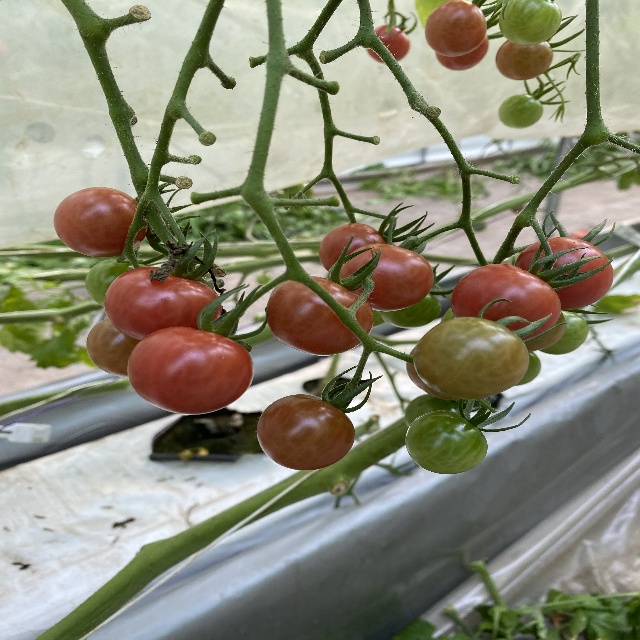l_fully_ripened: (128, 325, 256, 415), (451, 262, 564, 342), (104, 267, 223, 341), (514, 236, 615, 311), (54, 187, 150, 258), (332, 244, 434, 310), (318, 223, 393, 275), (434, 35, 487, 72), (366, 25, 410, 63)
l_green: (404, 412, 489, 475), (87, 258, 150, 308), (499, 0, 562, 47), (539, 309, 591, 355), (379, 291, 443, 328), (403, 395, 473, 426), (498, 93, 544, 128), (516, 350, 542, 385)
l_half_ripened: (411, 316, 530, 399), (265, 275, 376, 355), (255, 394, 357, 472), (425, 0, 488, 56), (86, 316, 139, 378), (495, 40, 555, 80), (524, 312, 567, 350)
